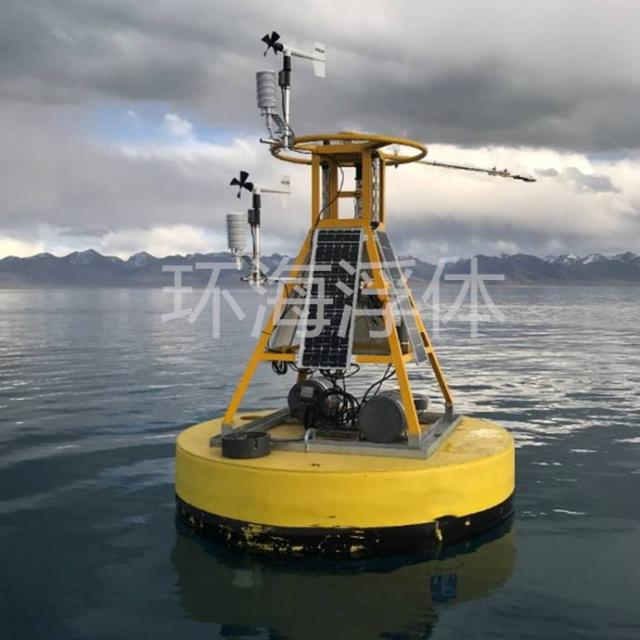buoy: (165, 25, 532, 554)
